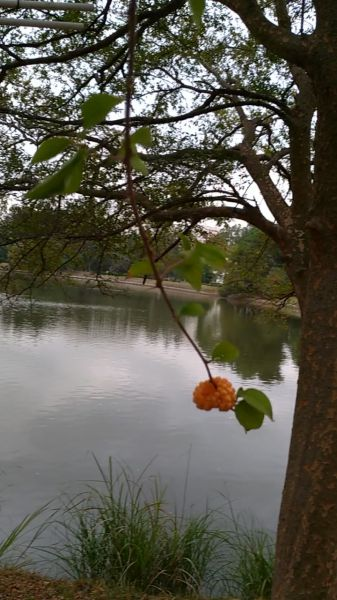eggs: (190, 374, 238, 417)
